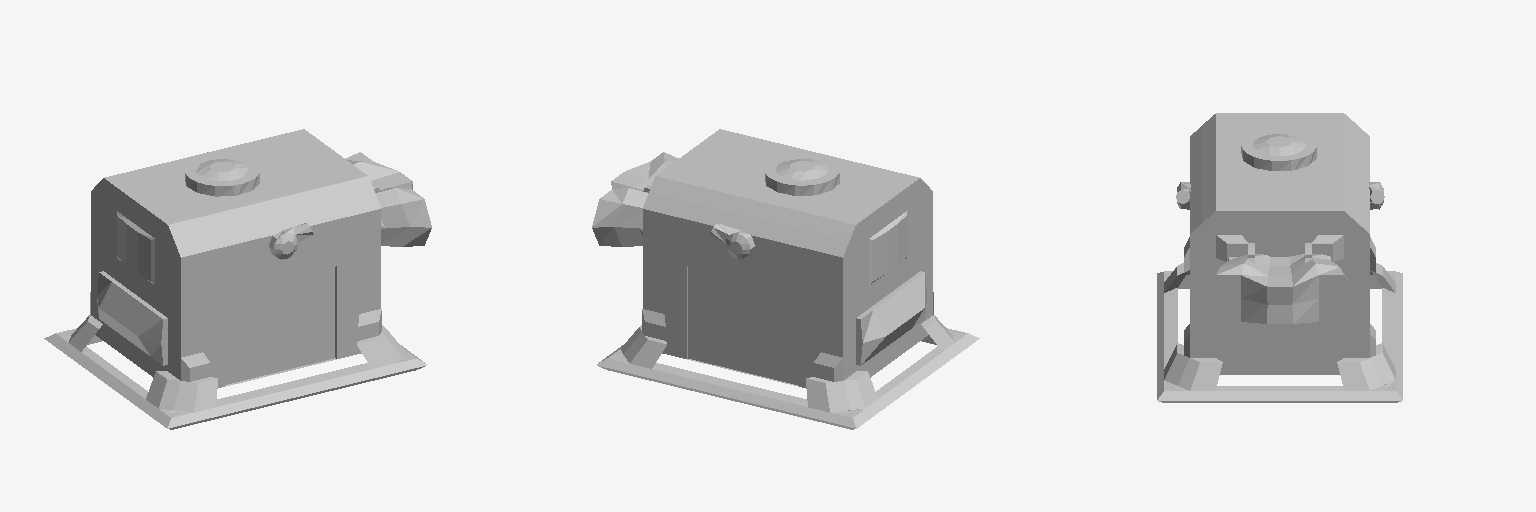
Rendered from SlugShipWStructure.obj.
3 views of the same model, side by side, from view 1: azimuth 30°, elevation 25°; view 2: azimuth 150°, elevation 25°; view 3: azimuth 270°, elevation 25° (orthographic).
Parts seen in each view (by area): view 1: Cube, Cube.004, Cube.002, Cube.001; view 2: Cube, Cube.004, Cube.002, Cube.001; view 3: Cube, Cube.004, Cube.001.
Part boxes in pixels (left/top/right/bottom): Cube: left=91, top=129, right=380, bottom=388; Cube.004: left=44, top=292, right=426, bottom=429; Cube.002: left=225, top=267, right=334, bottom=384; Cube.001: left=346, top=152, right=431, bottom=246; Cube: left=643, top=129, right=932, bottom=388; Cube.004: left=597, top=292, right=979, bottom=429; Cube.002: left=688, top=267, right=798, bottom=385; Cube.001: left=592, top=152, right=678, bottom=246; Cube: left=1176, top=113, right=1384, bottom=374; Cube.004: left=1157, top=237, right=1402, bottom=402; Cube.001: left=1201, top=254, right=1358, bottom=323.
Size of the model in its own units: 6.75 by 4.19 by 4.79.